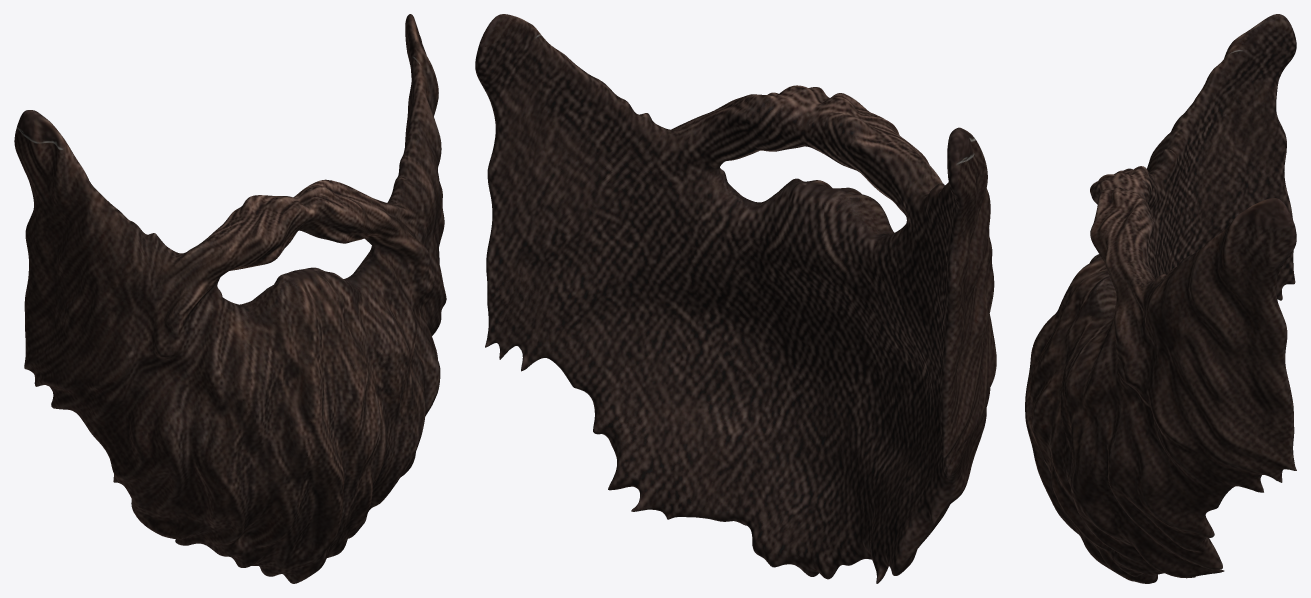
File: Barba_Longa.glb
3 views of the same model, side by side, from view 1: azimuth 30°, elevation 25°; view 2: azimuth 150°, elevation 25°; view 3: azimuth 270°, elevation 25° (orthographic). The views are drawn at different scales.
Size of the model in its own units: 1.71 by 1.9 by 0.9831.
Materials: 1 (1 with a texture image).
